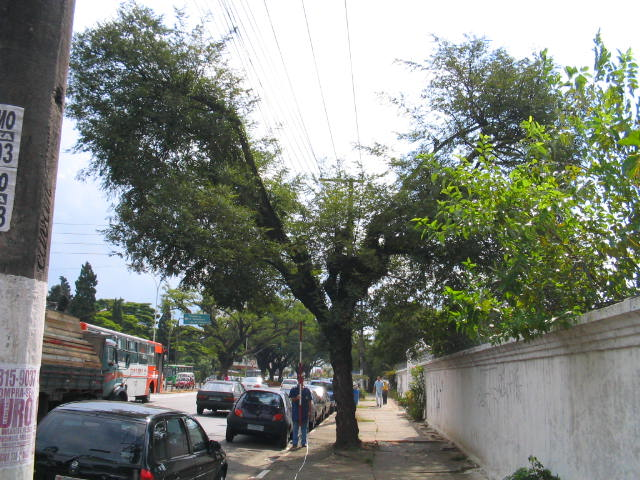crown: (68, 2, 574, 329)
stem: (317, 337, 370, 447)
stick: (293, 321, 305, 449)
tree: (68, 1, 575, 447)
